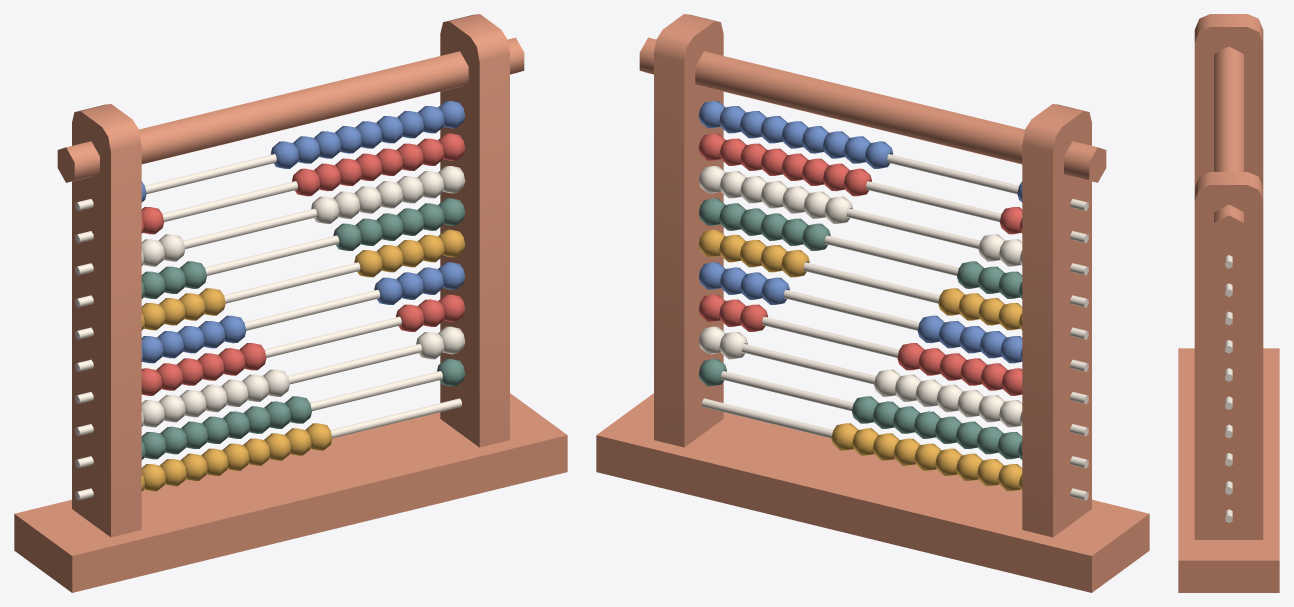
The model's file is Abacus_01.fbx.
3 views of the same model, side by side, from view 1: azimuth 30°, elevation 25°; view 2: azimuth 150°, elevation 25°; view 3: azimuth 270°, elevation 25° (orthographic). The views are drawn at different scales.
Visible parts, largest first — view 1: Abacus_01; view 2: Abacus_01; view 3: Abacus_01.
Boxes of the visible parts, x1=… form: Abacus_01: x1=14, y1=14, x2=567, y2=592; Abacus_01: x1=596, y1=14, x2=1149, y2=592; Abacus_01: x1=1178, y1=14, x2=1279, y2=592.
Size of the model in its own units: 0.3585 by 0.3048 by 0.0725.
